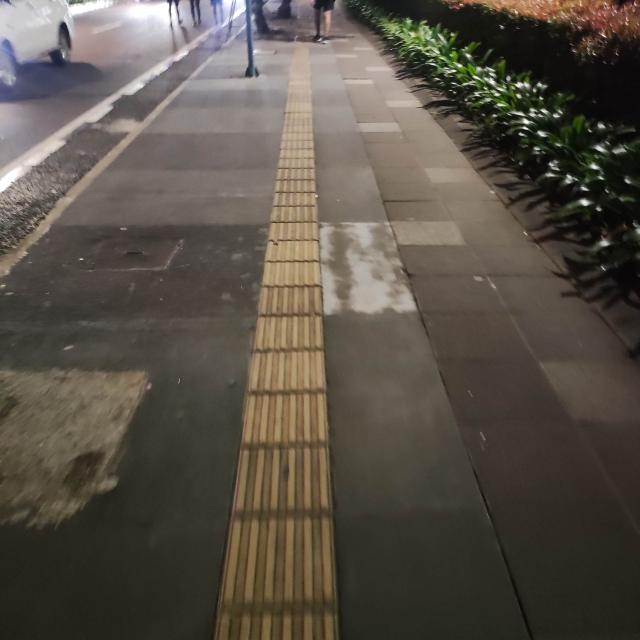lurus: (245, 65, 340, 640)
